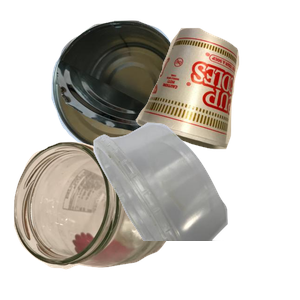glass: (11, 139, 179, 300)
metal: (49, 18, 229, 164)
plastic: (91, 120, 300, 300)
trash: (133, 25, 300, 167)
